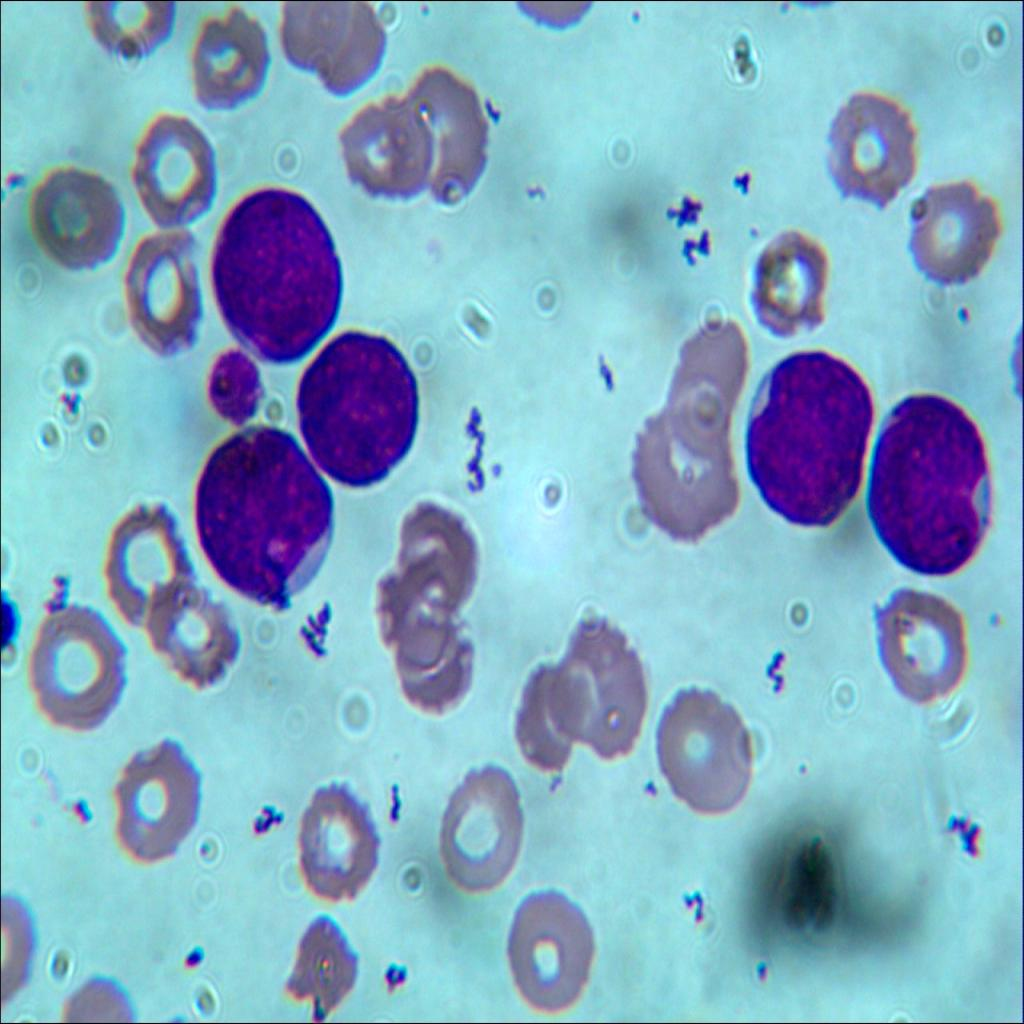Eritrosit: (626, 406, 748, 552), (651, 680, 754, 826), (656, 308, 748, 452), (103, 498, 195, 635), (814, 77, 916, 200), (436, 767, 530, 898), (113, 734, 203, 870), (404, 65, 489, 208), (24, 161, 126, 275), (121, 224, 203, 364), (906, 170, 1006, 284), (561, 621, 646, 755), (294, 771, 382, 900), (866, 591, 968, 701), (35, 602, 126, 725), (511, 882, 594, 1011), (149, 574, 243, 685), (336, 84, 426, 198), (366, 552, 450, 674), (743, 232, 828, 337), (134, 115, 215, 221), (393, 604, 470, 714), (278, 906, 356, 1012), (408, 495, 478, 611), (186, 15, 264, 108), (281, 6, 364, 86), (514, 666, 572, 764), (88, 0, 173, 55)
Limfoblast: (193, 424, 339, 600), (743, 357, 876, 539), (869, 395, 996, 577), (209, 186, 343, 354), (306, 327, 414, 478)
Platelet: (742, 945, 786, 1001), (174, 938, 208, 984), (786, 749, 819, 788), (944, 291, 978, 324), (982, 594, 1003, 639), (615, 0, 644, 31), (644, 768, 666, 807), (3, 155, 21, 194), (415, 1, 436, 31), (488, 456, 506, 484)
